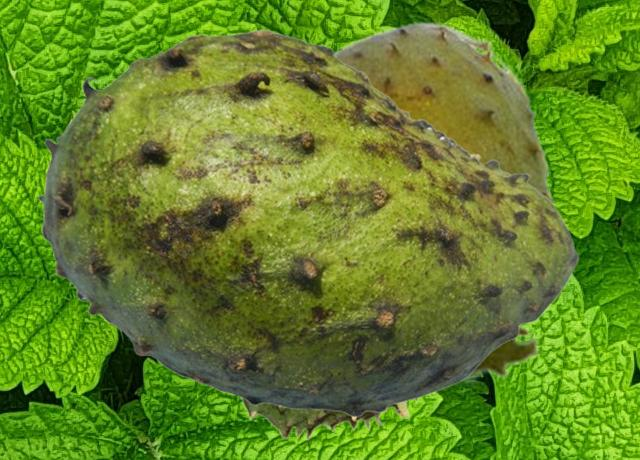guyabano: (37, 28, 578, 417), (333, 20, 558, 386), (241, 118, 483, 440)
